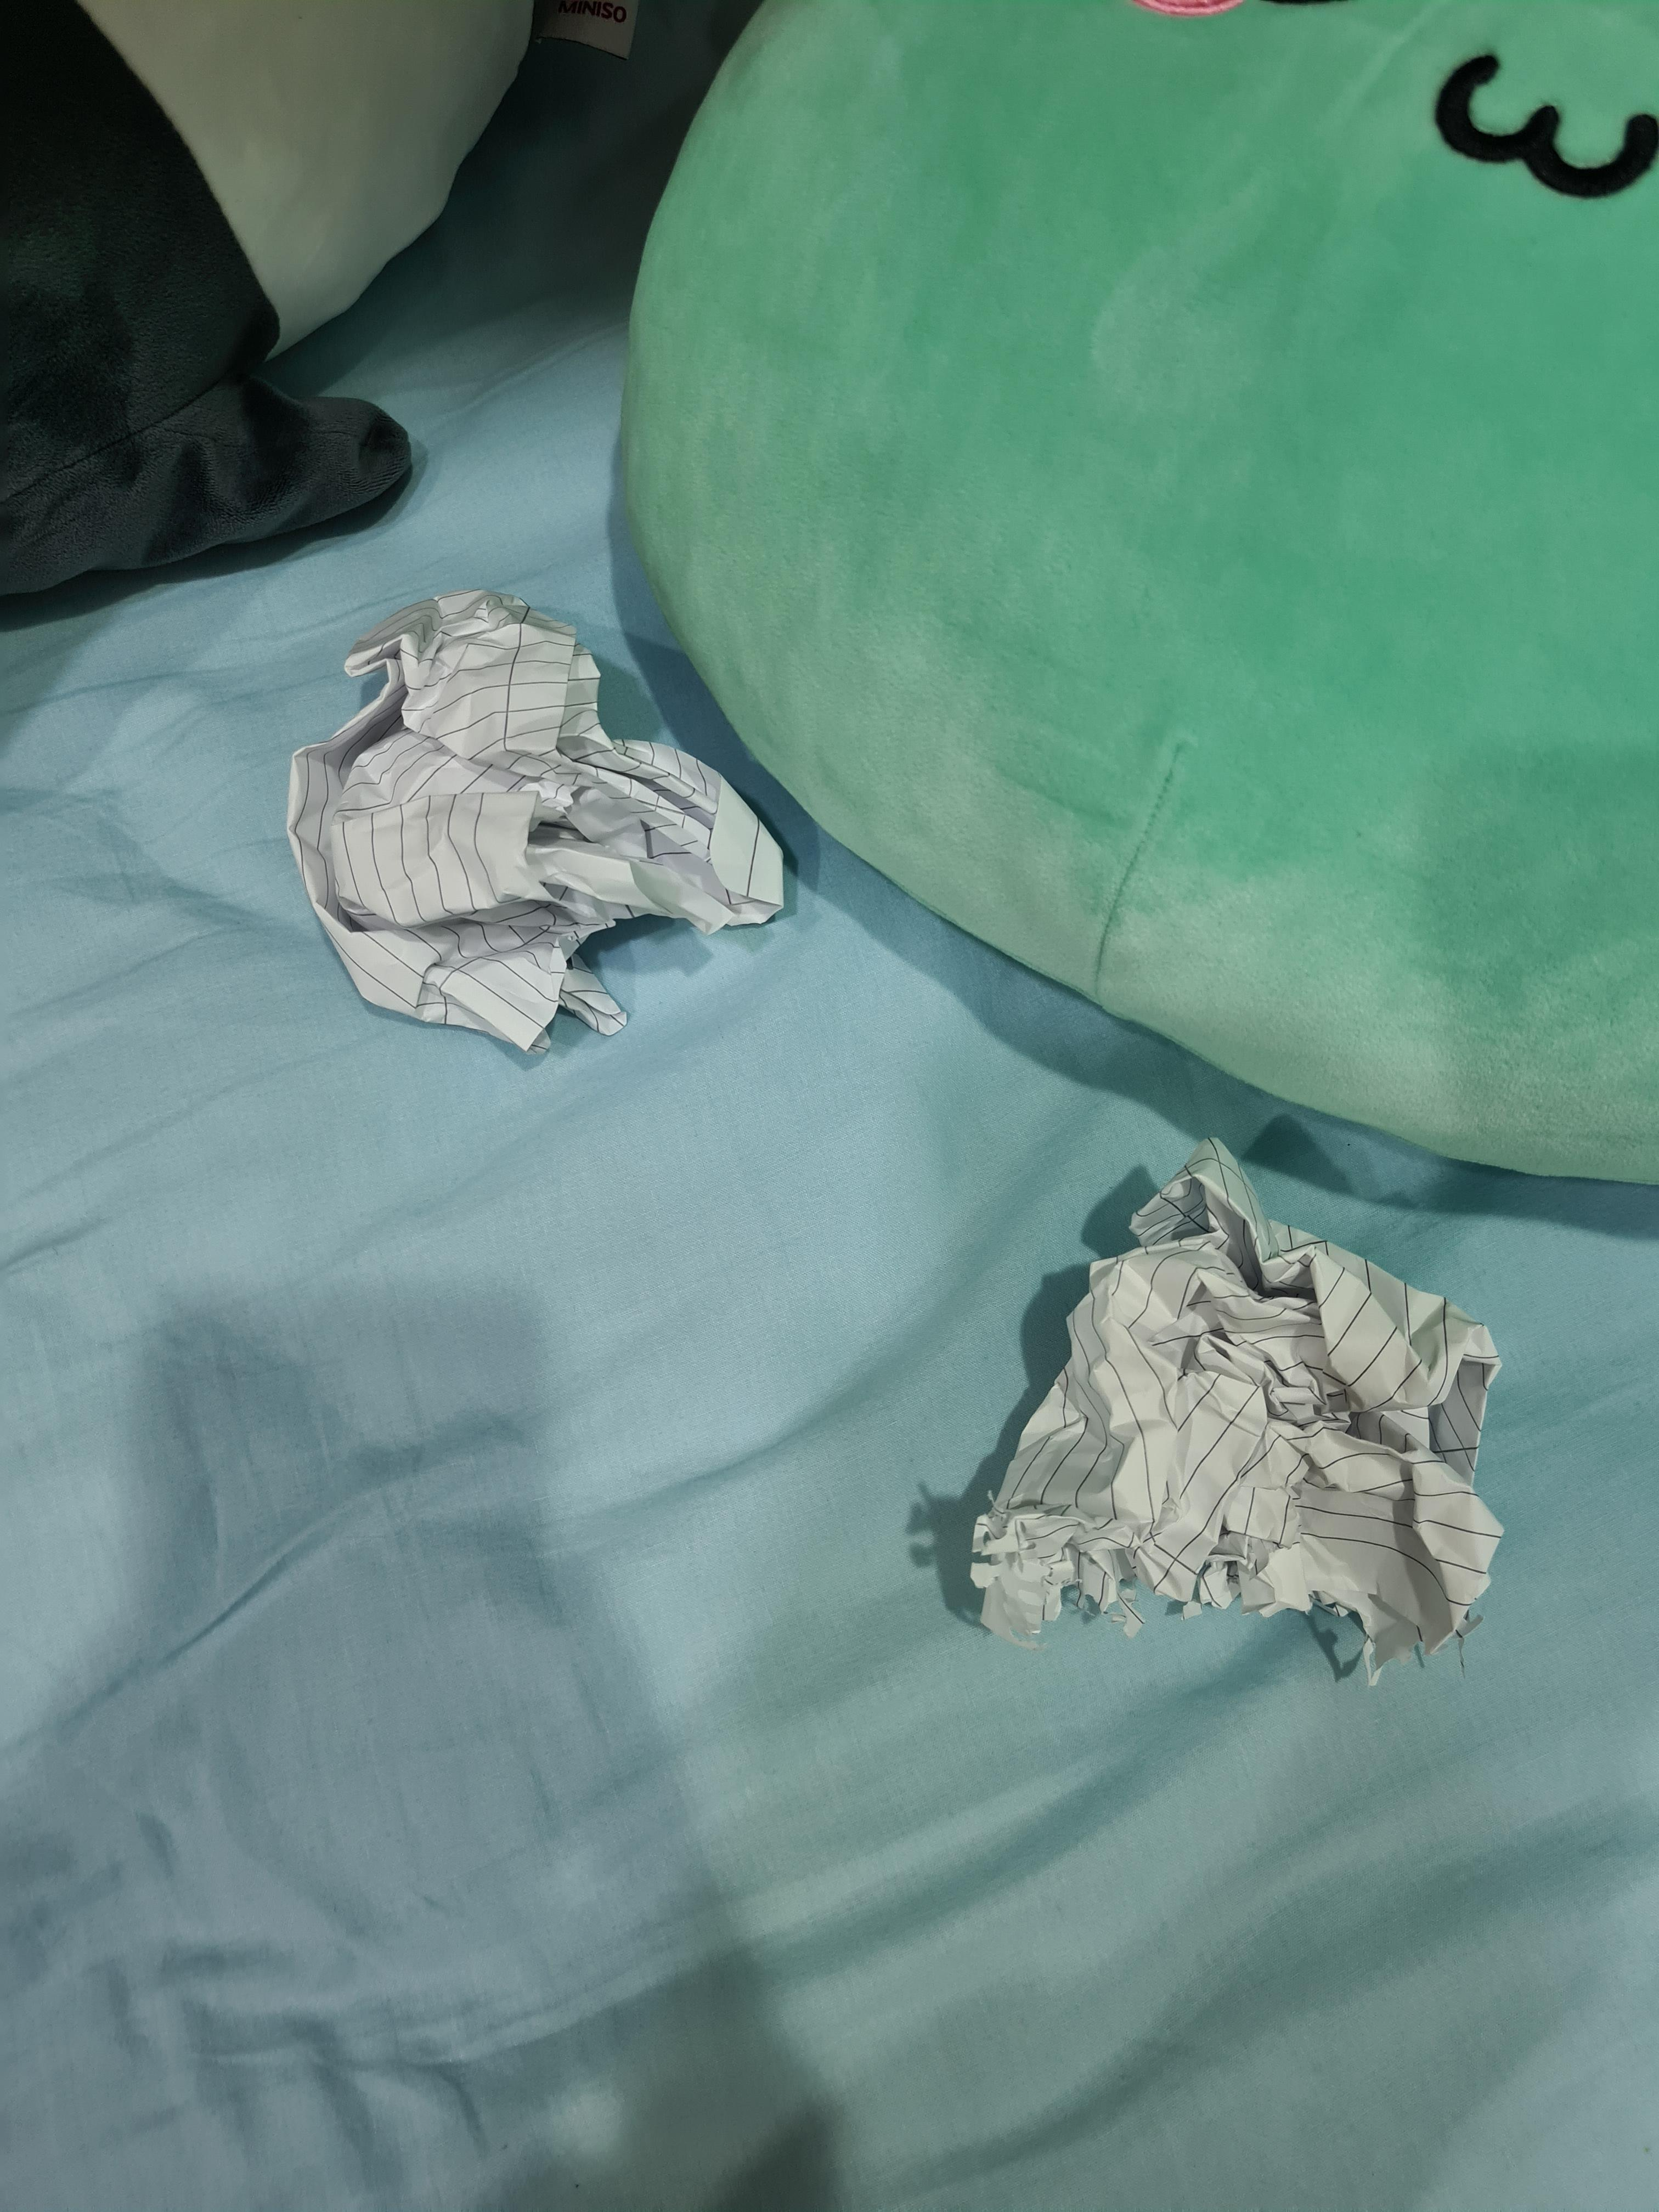Paper: (940, 1164, 1487, 1669), (271, 599, 780, 1054)
